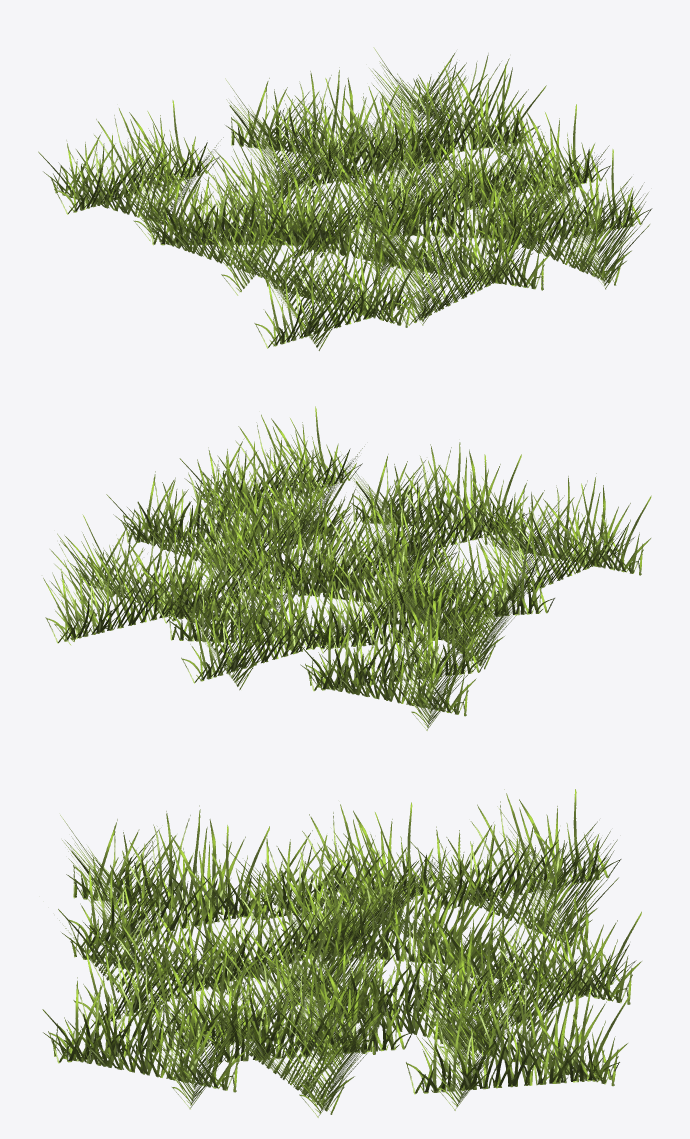
Rendered from grass_large_1.dae.
3 renders of one model, top to bottom at view 1: azimuth 30°, elevation 25°; view 2: azimuth 150°, elevation 25°; view 3: azimuth 270°, elevation 25°, orthographic. The views are drawn at different scales.
Visible parts, largest first — view 1: Plane017; view 2: Plane017; view 3: Plane017.
Part boxes in pixels (x1,y1,x2,y2): Plane017: [38, 47, 652, 350]; Plane017: [43, 406, 651, 730]; Plane017: [42, 789, 641, 1117].
Bounding box in the file's own units: 26.47 × 26.09 × 3.7.
